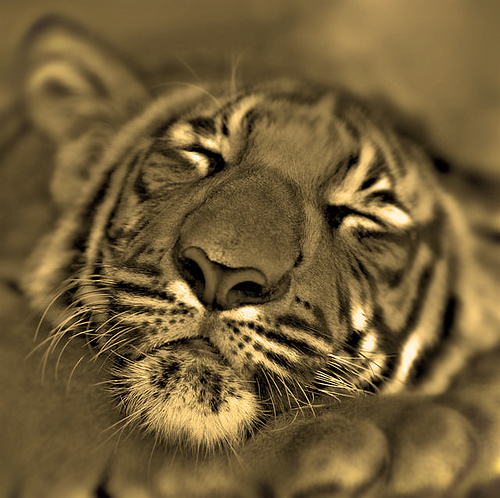Tigre: (27, 18, 487, 456)
